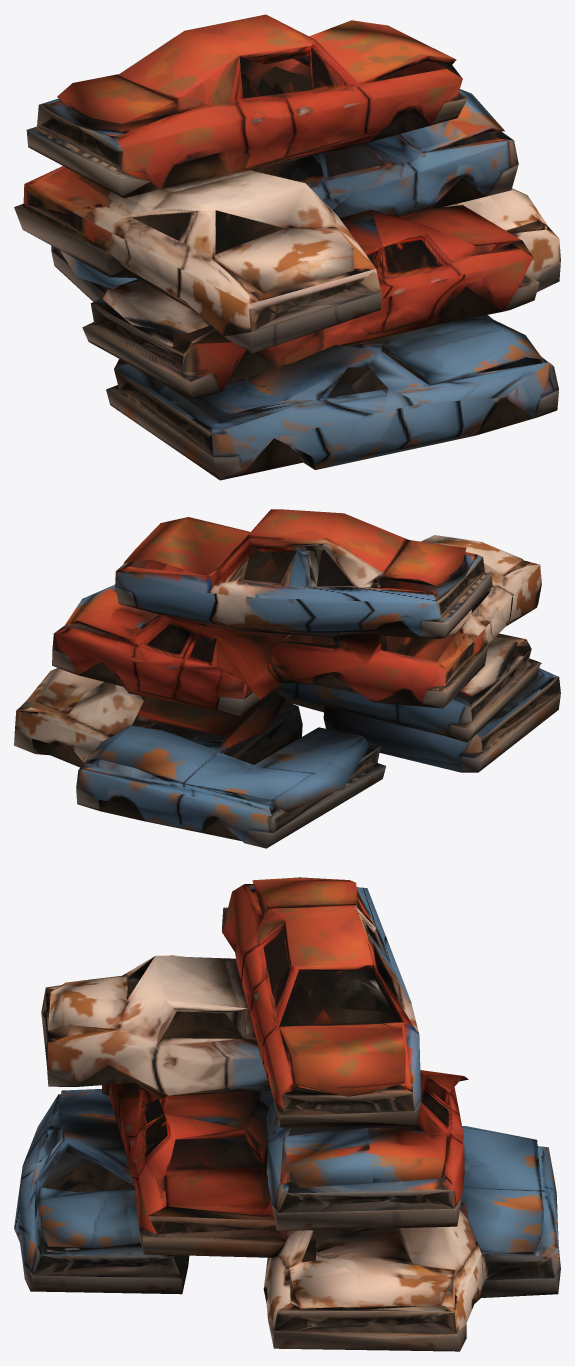
File: ScrapPile.fbx
3 views of the same model, one above another, from view 1: azimuth 30°, elevation 25°; view 2: azimuth 150°, elevation 25°; view 3: azimuth 270°, elevation 25° (orthographic). The views are drawn at different scales.
Parts seen in each view (by area): view 1: node_0; view 2: node_0; view 3: node_0.
Part boxes in pixels (x1=…): node_0: x1=14, y1=14, x2=560, y2=480; node_0: x1=14, y1=509, x2=560, y2=848; node_0: x1=14, y1=877, x2=560, y2=1351.
Size of the model in its own units: 89.09 by 52.3 by 88.33.
Materials: 1 (1 with a texture image).
